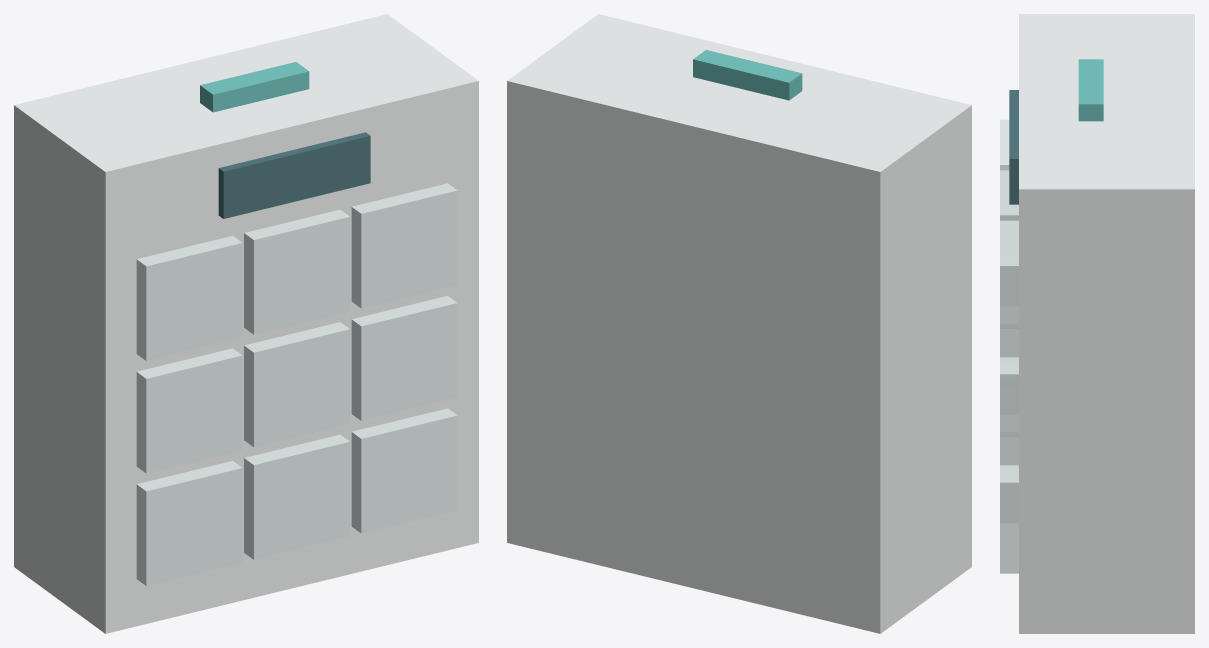
Rendered from pharmamind_cabinet.glb.
The picture shows the model from 3 angles, left to right: view 1: azimuth 30°, elevation 25°; view 2: azimuth 150°, elevation 25°; view 3: azimuth 270°, elevation 25°; orthographic projection. The views are drawn at different scales.
Parts seen in each view (by area): view 1: cabinet_body, drawer_04, drawer_01, drawer_03, drawer_09, drawer_07, drawer_06, drawer_08, drawer_05, drawer_02, top_screen, handle; view 2: cabinet_body, handle; view 3: cabinet_body, drawer_03, drawer_06, drawer_09, handle, top_screen, drawer_02, drawer_01.
Boxes of the visible parts, x1=… form: cabinet_body: x1=14, y1=14, x2=478, y2=633; drawer_04: x1=136, y1=348, x2=242, y2=473; drawer_01: x1=136, y1=236, x2=242, y2=360; drawer_03: x1=351, y1=183, x2=457, y2=308; drawer_09: x1=351, y1=408, x2=457, y2=533; drawer_07: x1=136, y1=461, x2=242, y2=585; drawer_06: x1=351, y1=296, x2=457, y2=420; drawer_08: x1=244, y1=434, x2=349, y2=559; drawer_05: x1=244, y1=322, x2=349, y2=447; drawer_02: x1=244, y1=209, x2=349, y2=334; top_screen: x1=218, y1=132, x2=370, y2=218; handle: x1=200, y1=62, x2=309, y2=112; cabinet_body: x1=507, y1=14, x2=971, y2=633; handle: x1=693, y1=50, x2=802, y2=100; cabinet_body: x1=1019, y1=14, x2=1194, y2=633; drawer_03: x1=1000, y1=220, x2=1018, y2=357; drawer_06: x1=1000, y1=357, x2=1018, y2=465; drawer_09: x1=1000, y1=465, x2=1018, y2=573; handle: x1=1078, y1=59, x2=1103, y2=121; top_screen: x1=1009, y1=90, x2=1018, y2=204; drawer_02: x1=1000, y1=170, x2=1018, y2=220; drawer_01: x1=1000, y1=119, x2=1009, y2=170.
Bounding box in the file's own units: 1.32 × 1.63 × 0.62.
